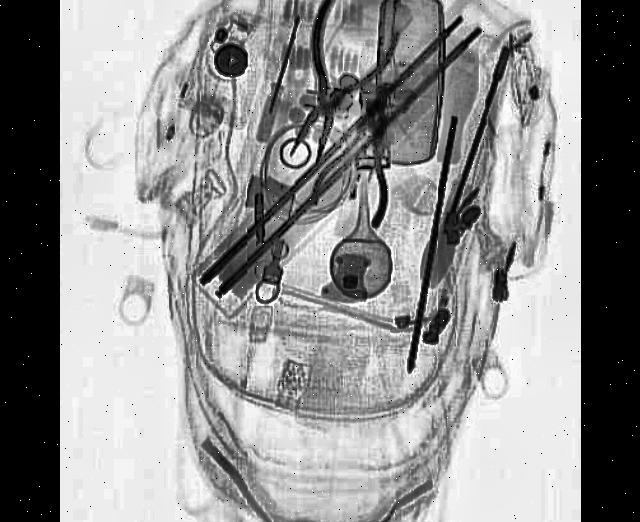Pliers: (280, 0, 401, 192), (308, 72, 414, 238)
